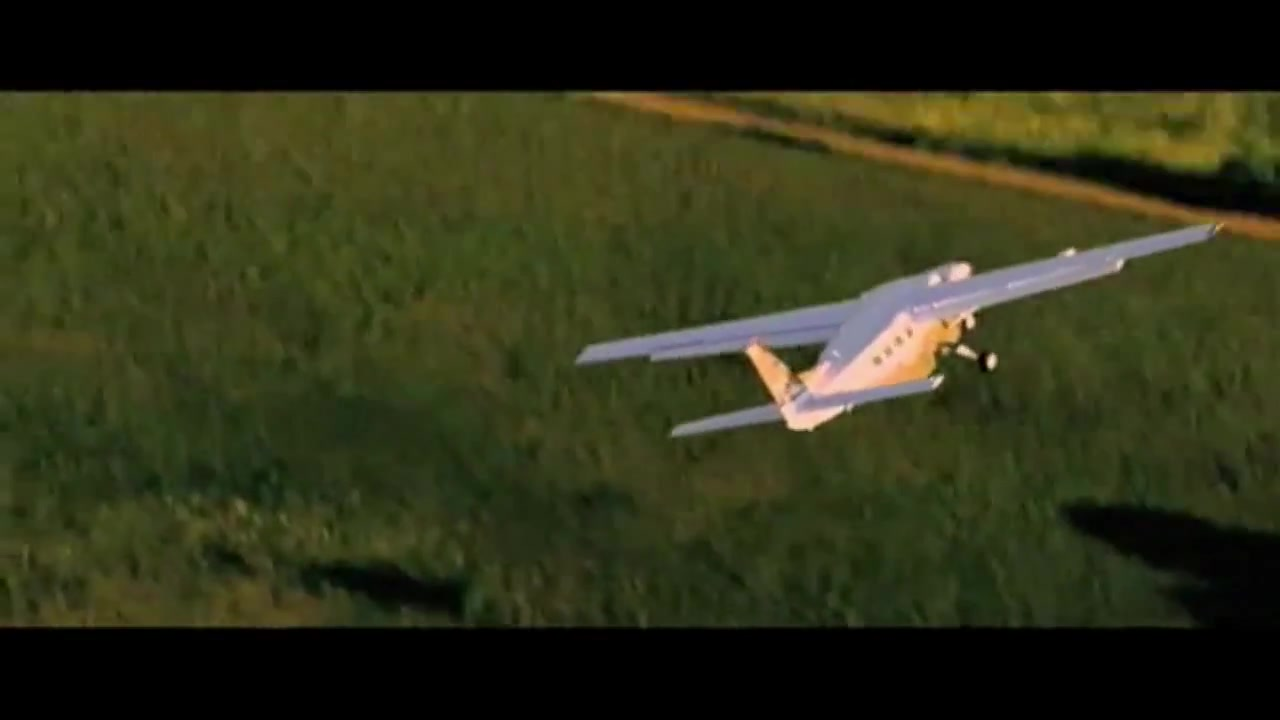aeroplane: (573, 215, 1230, 449)
